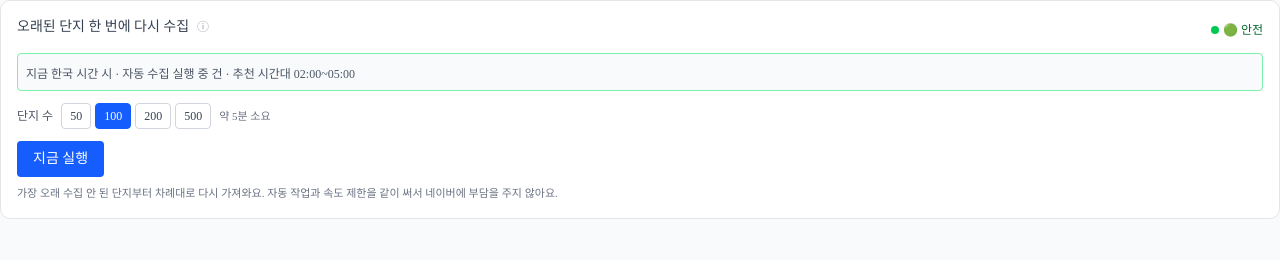
Test: BulkRecrawlCard › 실행 실패 시 성공 문구 없이 에러 메시지를 보여준다
This screenshot has width=1280, height=260.
Note: statusQuery 가 로딩 중이면 버튼이 disabled 라 클릭이 무시된다 — 활성화까지 대기
Click the button "지금 실행".
click(60, 159)  # box [17, 141, 104, 177]
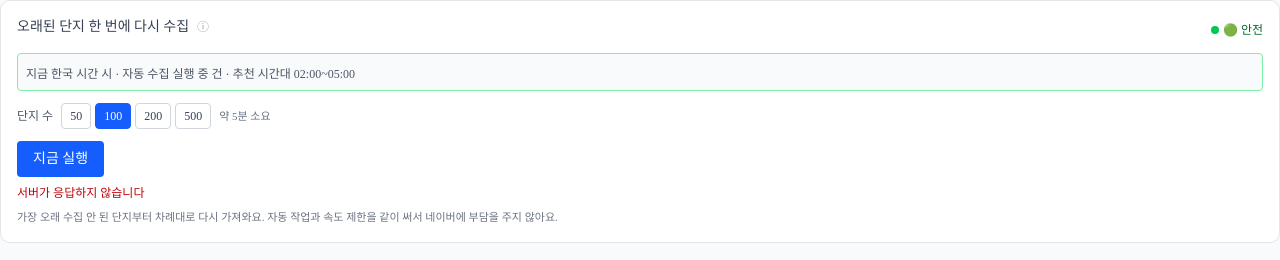
expect the text "서버가 응답하지 않습니다" is shown: met, box [17, 186, 144, 200]
